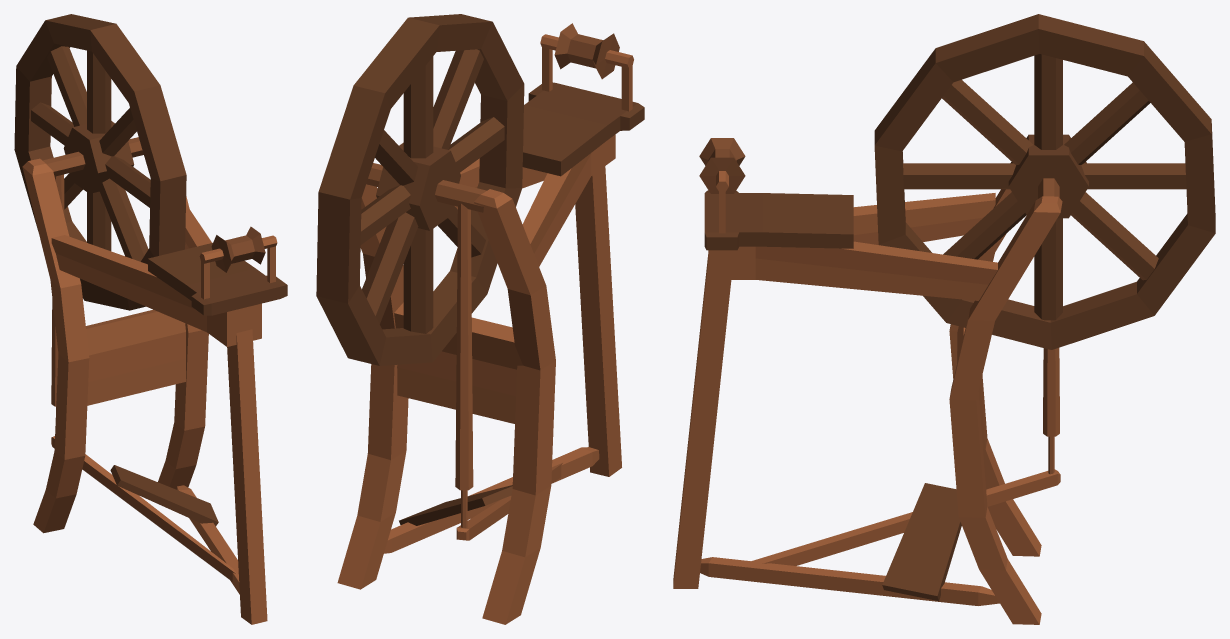
Rendered from spinningwheel01.obj.
3 views of the same model, side by side, from view 1: azimuth 30°, elevation 25°; view 2: azimuth 150°, elevation 25°; view 3: azimuth 270°, elevation 25° (orthographic). The views are drawn at different scales.
Visible parts, largest first — view 1: Cube_Cube.001; view 2: Cube_Cube.001; view 3: Cube_Cube.001.
Part boxes in pixels (<box>): Cube_Cube.001: <box>14,14,287,624</box>; Cube_Cube.001: <box>316,14,644,624</box>; Cube_Cube.001: <box>673,14,1215,624</box>.
Size of the model in its own units: 0.3791 by 1.22 by 1.06.
